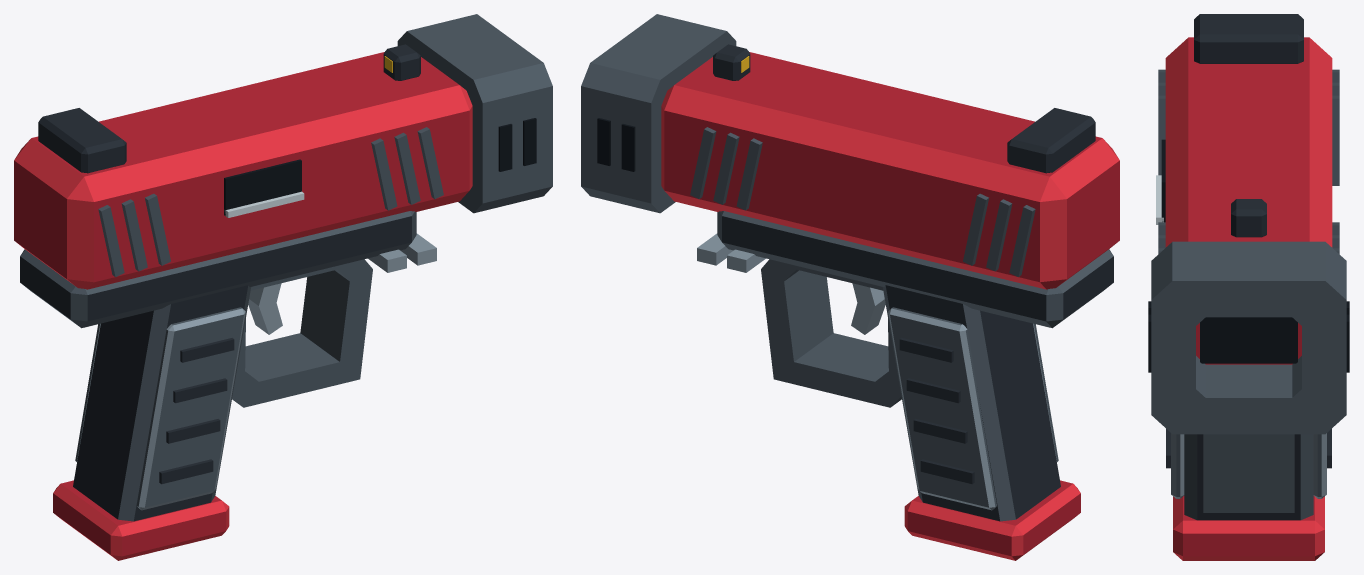
Rendered from handgun.fbx.
The picture shows the model from 3 angles, left to right: view 1: azimuth 30°, elevation 25°; view 2: azimuth 150°, elevation 25°; view 3: azimuth 270°, elevation 25°; orthographic projection. The views are drawn at different scales.
Parts seen in each view (by area): view 1: handgun; view 2: handgun; view 3: handgun.
Part boxes in pixels (x1=…): handgun: x1=14, y1=14, x2=552, y2=560; handgun: x1=581, y1=14, x2=1119, y2=560; handgun: x1=1148, y1=14, x2=1349, y2=560.
Size of the model in its own units: 150 by 126 by 48.42.
